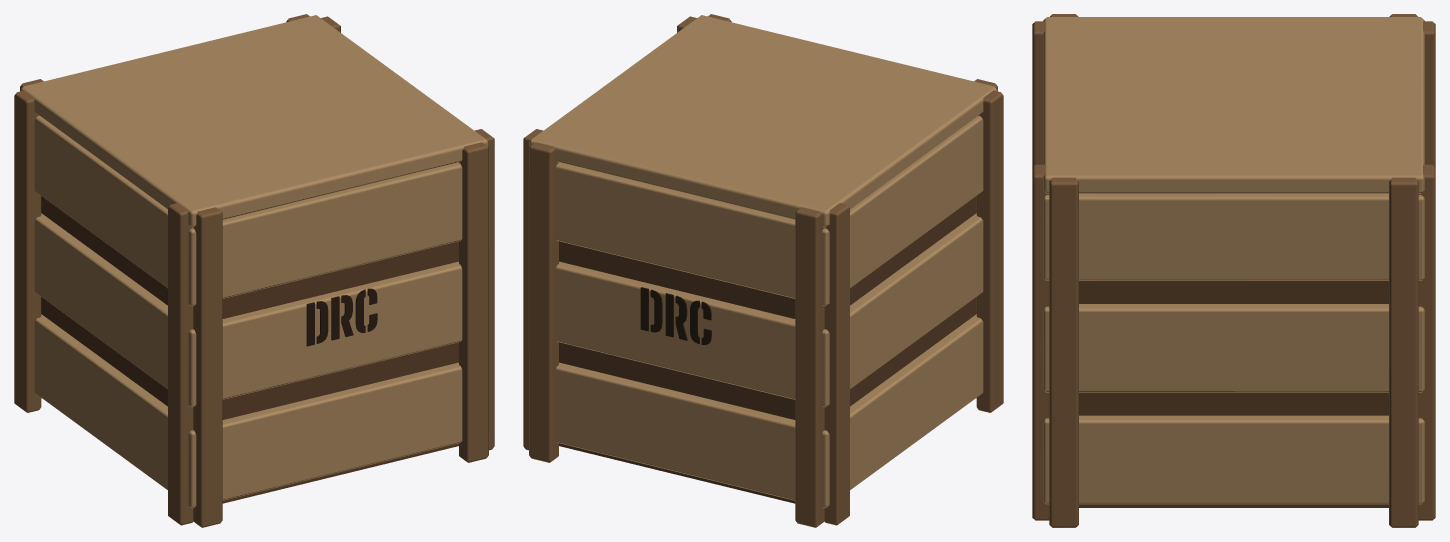
The model's file is SupplyCrate.glb.
3 renders of one model, left to right at view 1: azimuth 30°, elevation 25°; view 2: azimuth 150°, elevation 25°; view 3: azimuth 270°, elevation 25°, orthographic. The views are drawn at different scales.
Visible parts, largest first — view 1: SupplyCrate.001; view 2: SupplyCrate.001; view 3: SupplyCrate.001.
Part boxes in pixels (left/top/right/bottom): SupplyCrate.001: left=14, top=14, right=494, bottom=527; SupplyCrate.001: left=523, top=14, right=1003, bottom=527; SupplyCrate.001: left=1032, top=14, right=1435, bottom=527.
Bounding box in the file's own units: 0.95 × 0.905 × 0.95.
